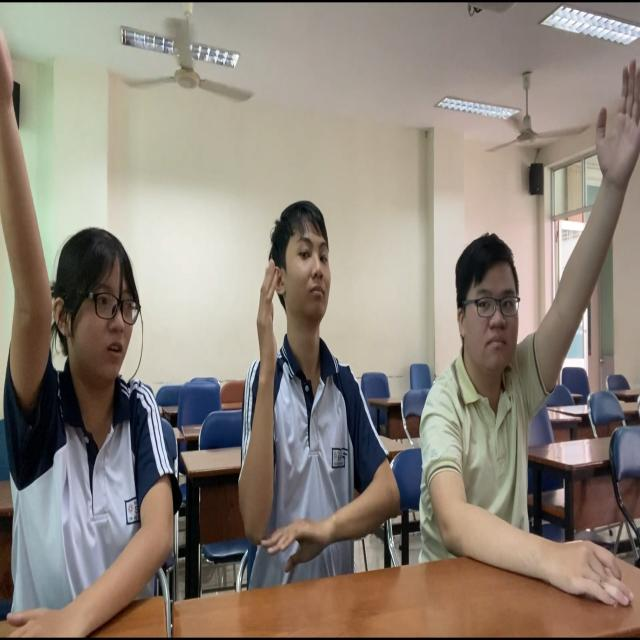raise_hand: (423, 58, 640, 625), (1, 9, 180, 638)
